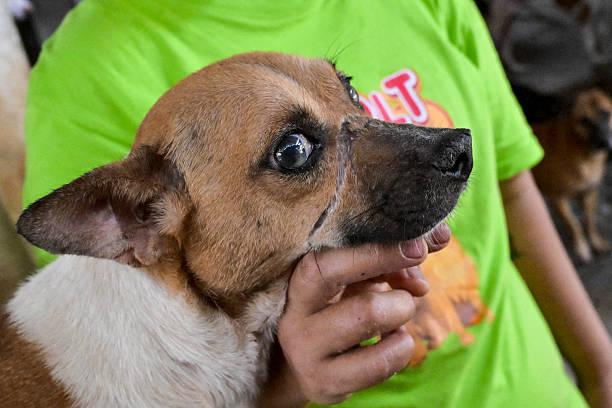cut: (261, 115, 419, 266)
